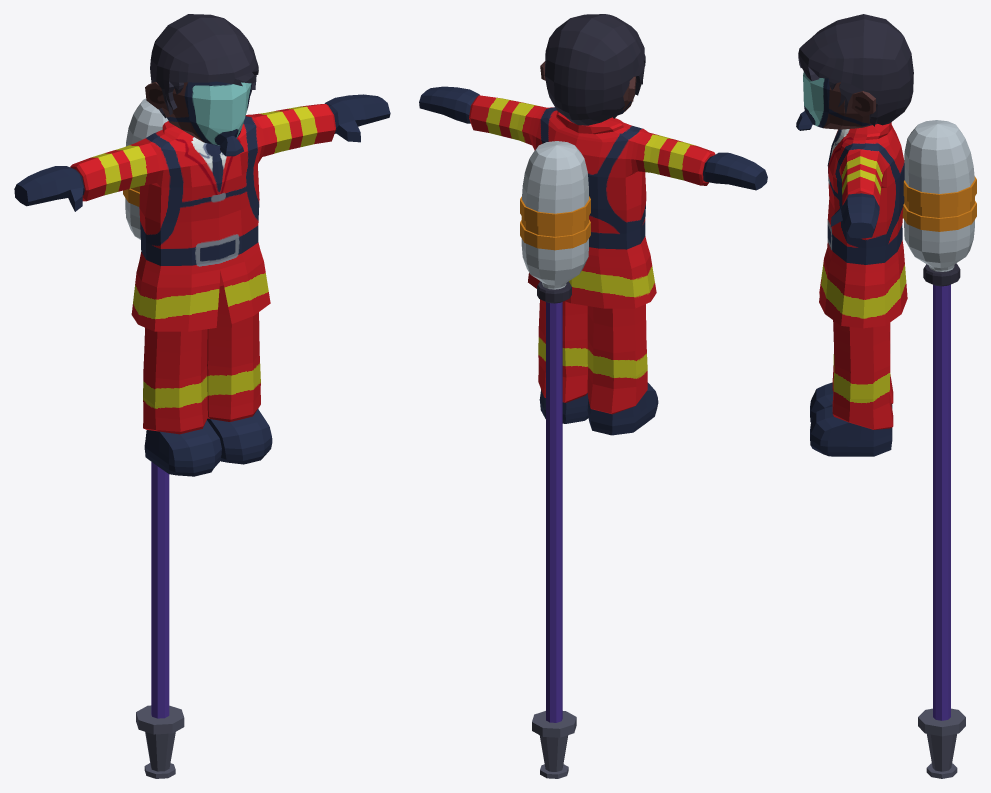
Rendered from Body.fbx.
3 renders of one model, left to right at view 1: azimuth 30°, elevation 25°; view 2: azimuth 150°, elevation 25°; view 3: azimuth 270°, elevation 25°, orthographic. The views are drawn at different scales.
Parts seen in each view (by area): view 1: Body; view 2: Body; view 3: Body.
Boxes of the visible parts, box(x1,y1,x2,y2) form: Body: box(14, 14, 390, 778); Body: box(419, 14, 767, 778); Body: box(796, 14, 976, 778).
Size of the model in its own units: 1289 by 2660 by 579.
